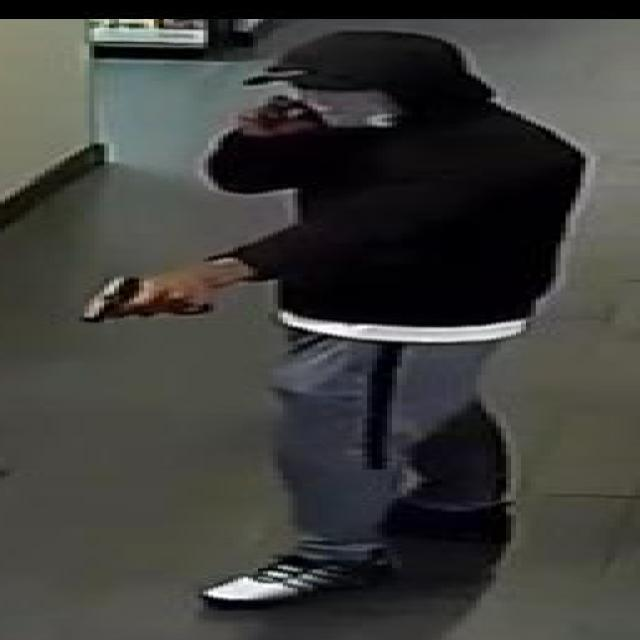Gun: (74, 268, 228, 324)
